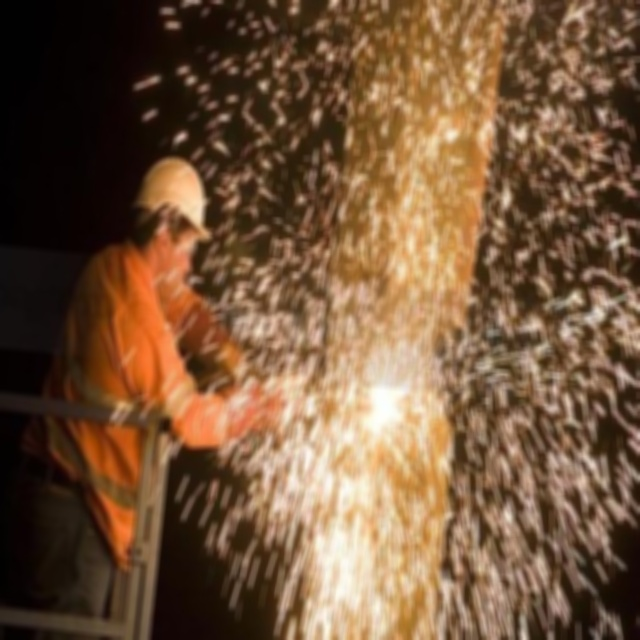Con_Casco: (126, 154, 221, 285)
